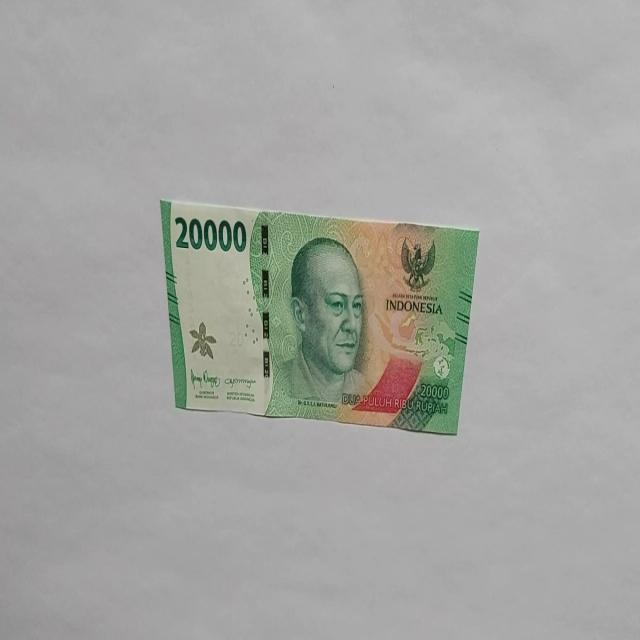dua puluh ribu rupiah: (158, 196, 480, 434), (273, 234, 373, 412)
